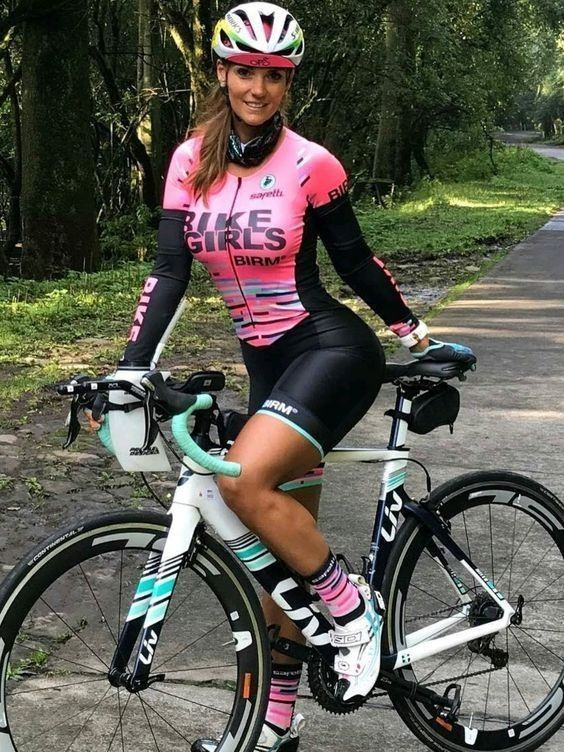helmet: (208, 4, 307, 72)
